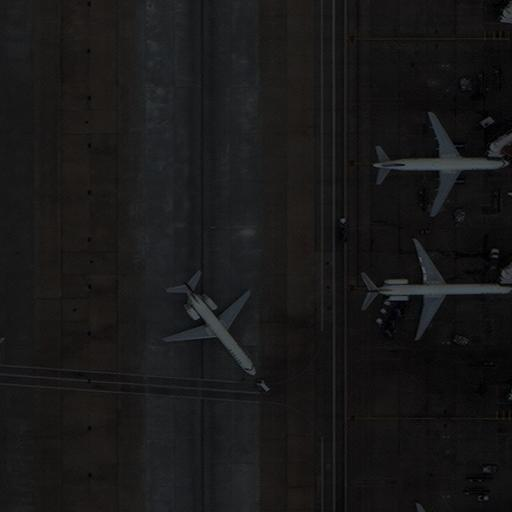Medium Civil Transport: (363, 239, 511, 339), (369, 112, 511, 214), (166, 281, 256, 377)
